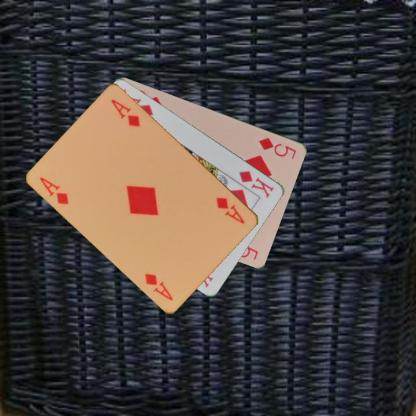5d: (256, 134, 298, 160)
Ad: (37, 174, 70, 206), (214, 194, 247, 225)
Kd: (237, 167, 275, 200)
